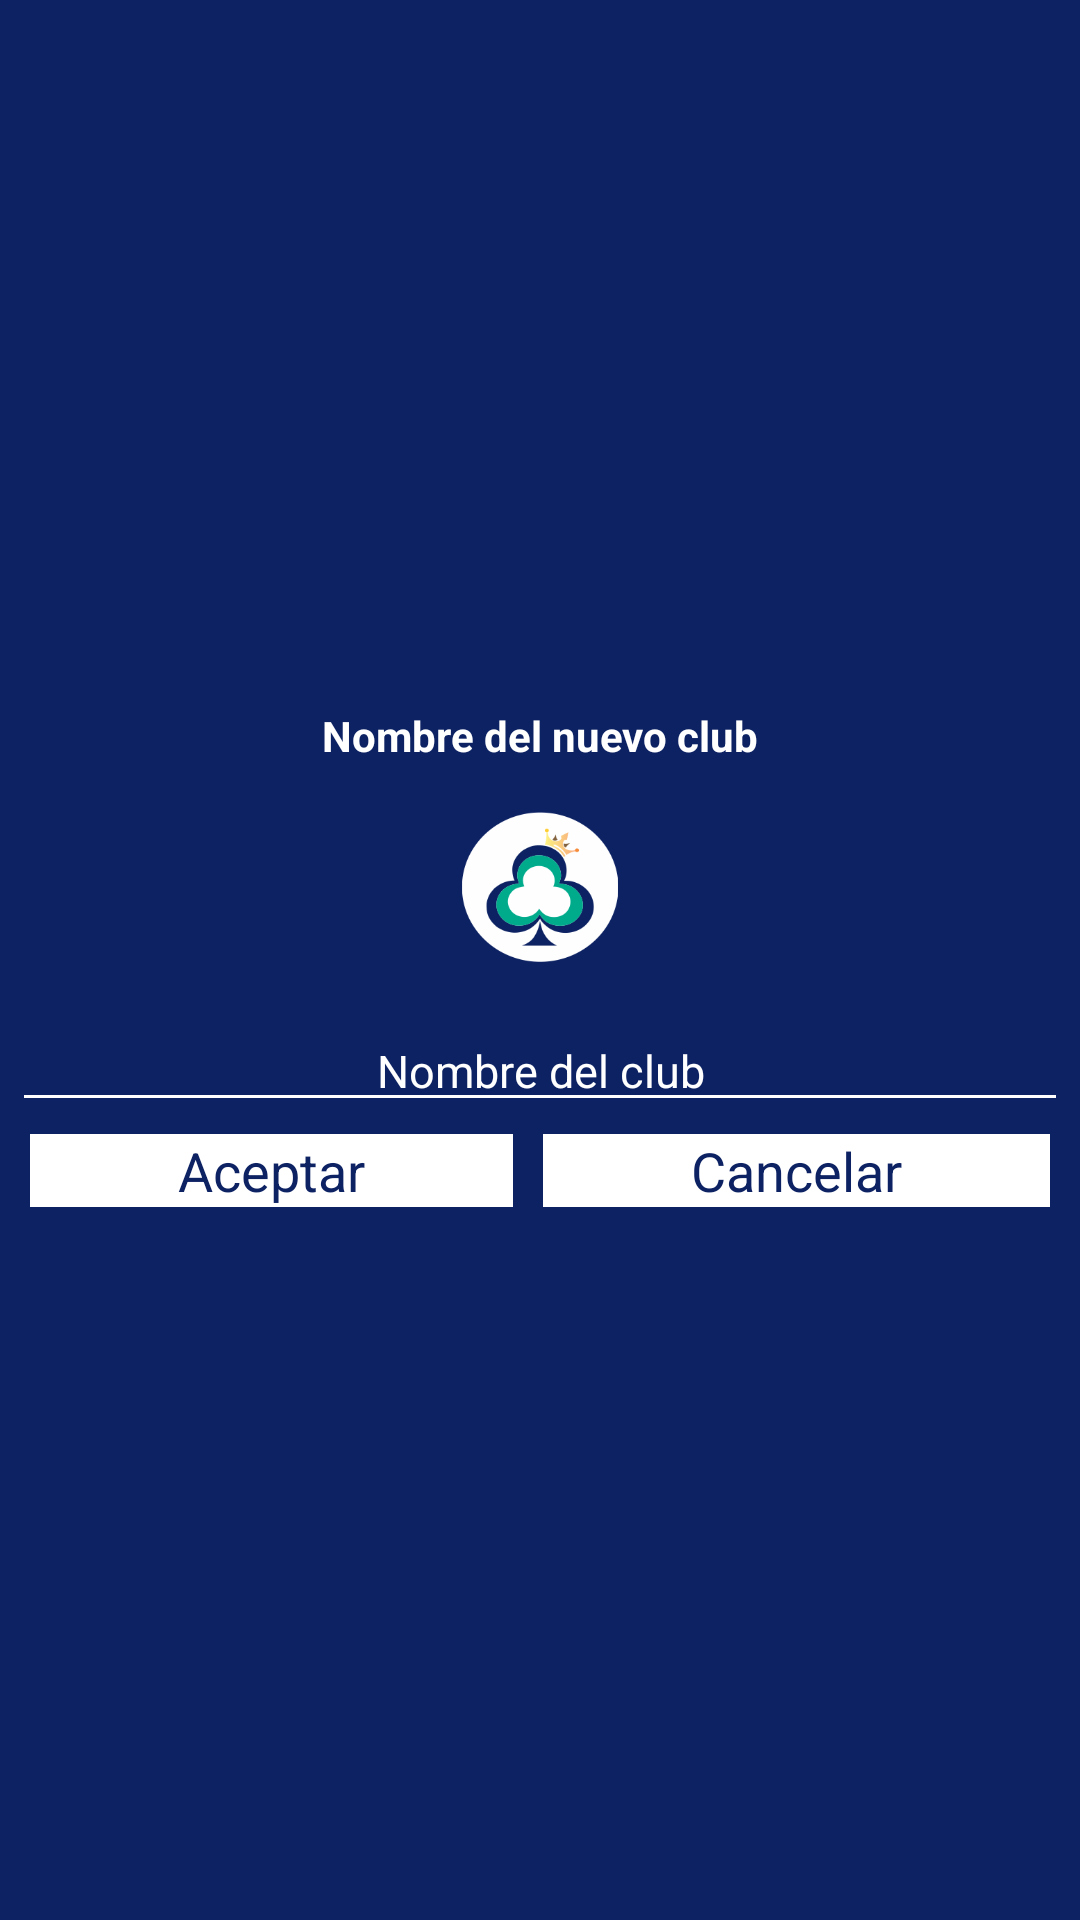

Icons on this 1080w x 1920h Android screen, each with its box as bbox=[x1, y1, x2, y2]:
trebol: bbox=[462, 812, 618, 962]
